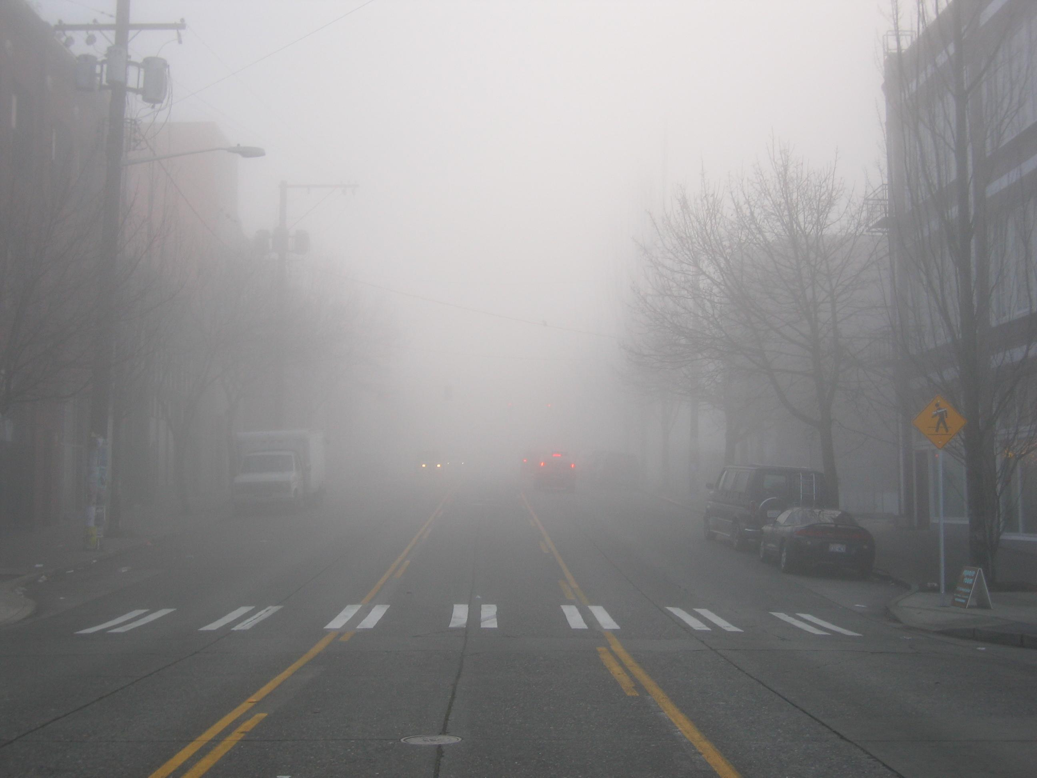bus: (230, 427, 331, 517)
car: (702, 462, 833, 553), (756, 506, 877, 580), (530, 451, 579, 496), (412, 450, 444, 479)
